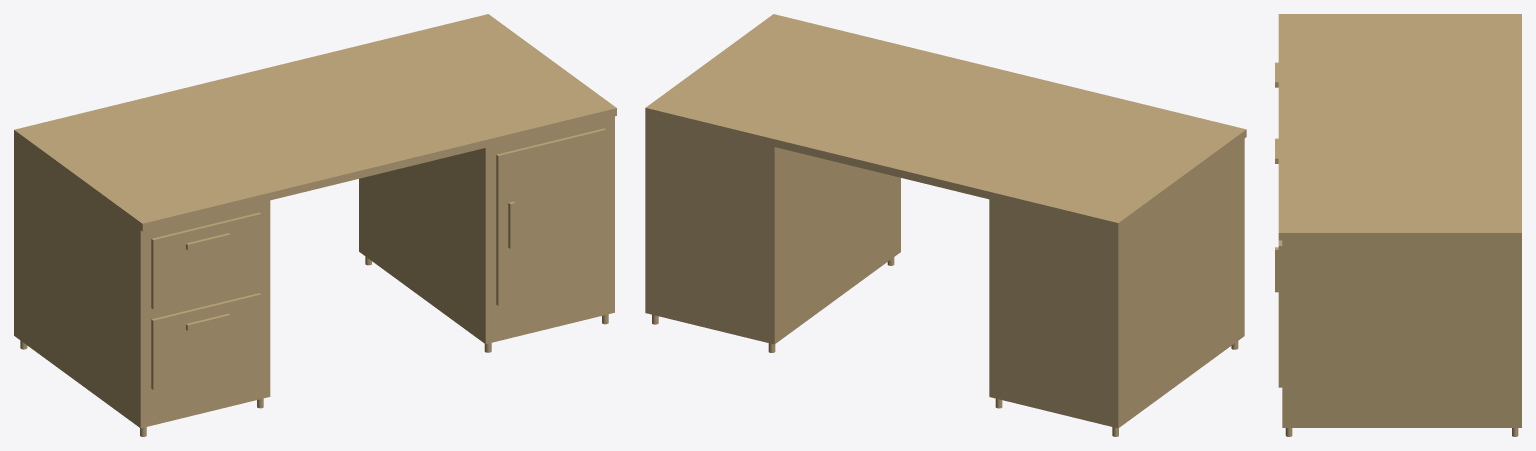
Rendered from Furniture - computer table  .fbx.
3 views of the same model, side by side, from view 1: azimuth 30°, elevation 25°; view 2: azimuth 150°, elevation 25°; view 3: azimuth 270°, elevation 25° (orthographic). The views are drawn at different scales.
Parts seen in each view (by area): view 1: Computer table body, Computer table body D1-R, Computer table drawer 2- Down, Computer table drawer 1- Up; view 2: Computer table body; view 3: Computer table body, Computer table body D1-R.
Boxes of the visible parts, x1,y1,x2,y2 form: Computer table body: (14, 14, 616, 436); Computer table body D1-R: (496, 128, 606, 305); Computer table drawer 2- Down: (151, 293, 261, 389); Computer table drawer 1- Up: (151, 212, 261, 309); Computer table body: (645, 14, 1246, 436); Computer table body: (1278, 14, 1521, 436); Computer table body D1-R: (1275, 240, 1282, 387).
Bounding box in the file's own units: 160 × 70 × 76.17.
